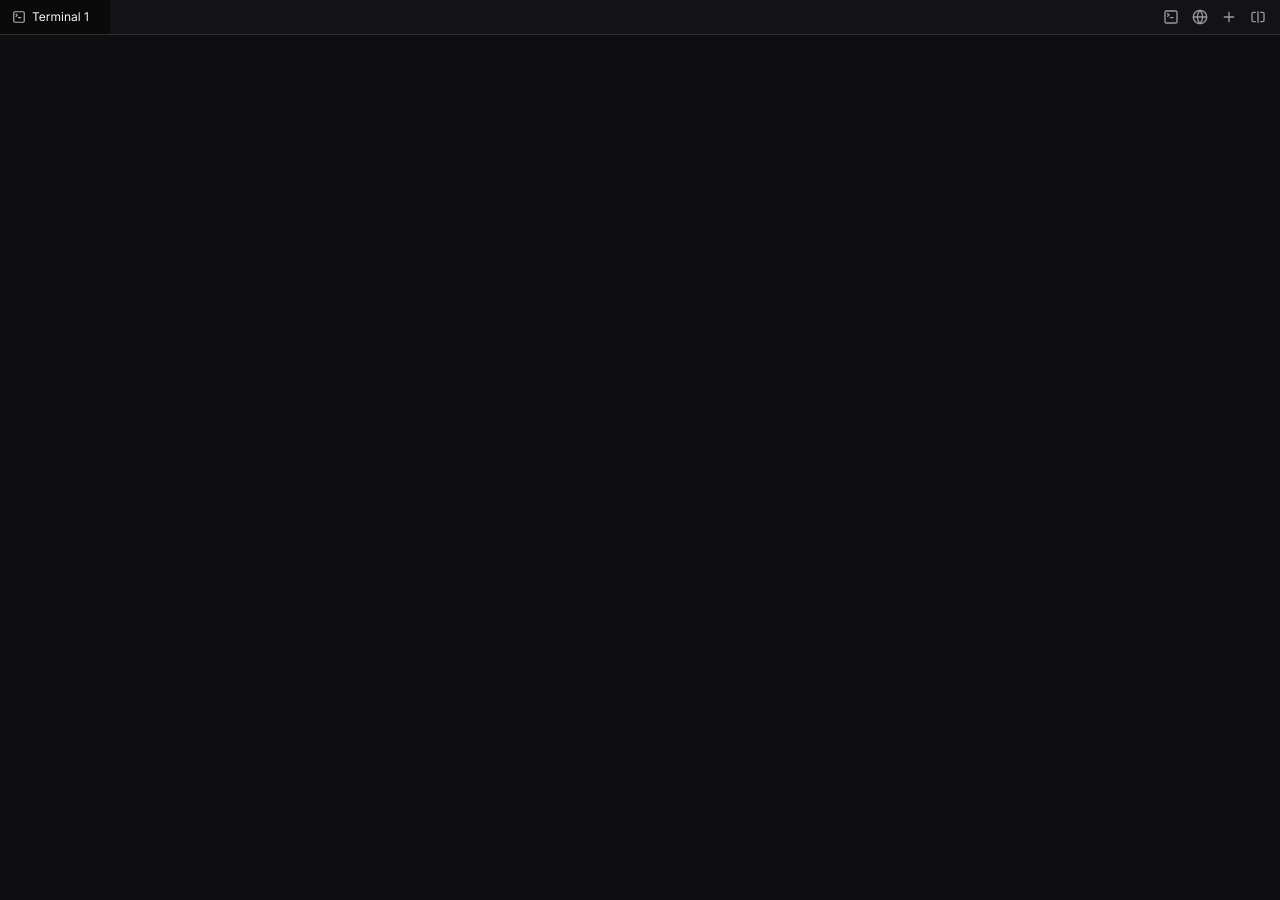
EditorTabs › closing the save-layout dialog clears the target
Right-click the button with test id "editor-tab-group-w1".
right_click(55, 17)  # box [0,0,110,34]
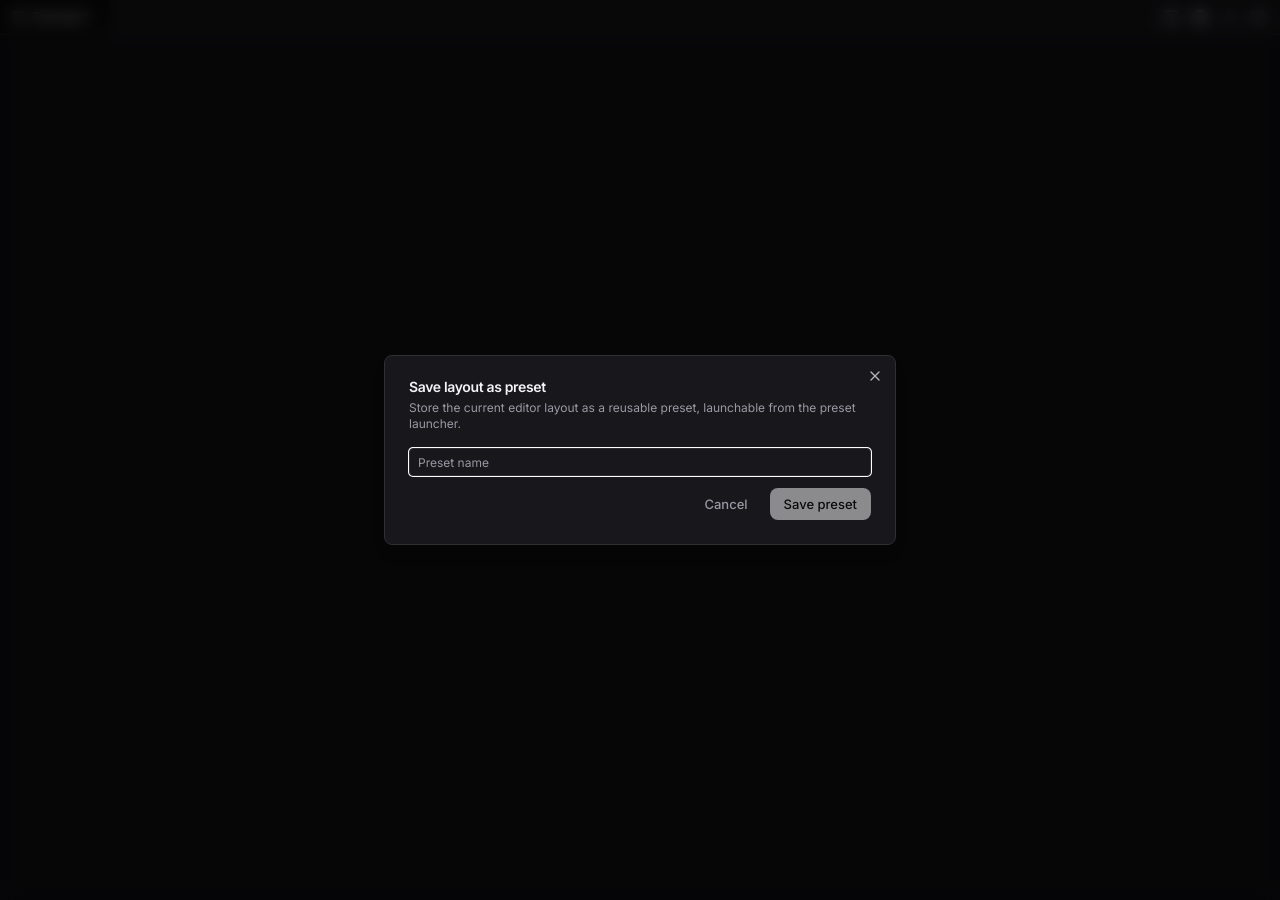
Result: the dialog with test id "save-layout-dialog" is shown at [384,355,896,545]
Click the button with test id "save-layout-cancel".
click(726, 504)  # box [690,488,762,520]
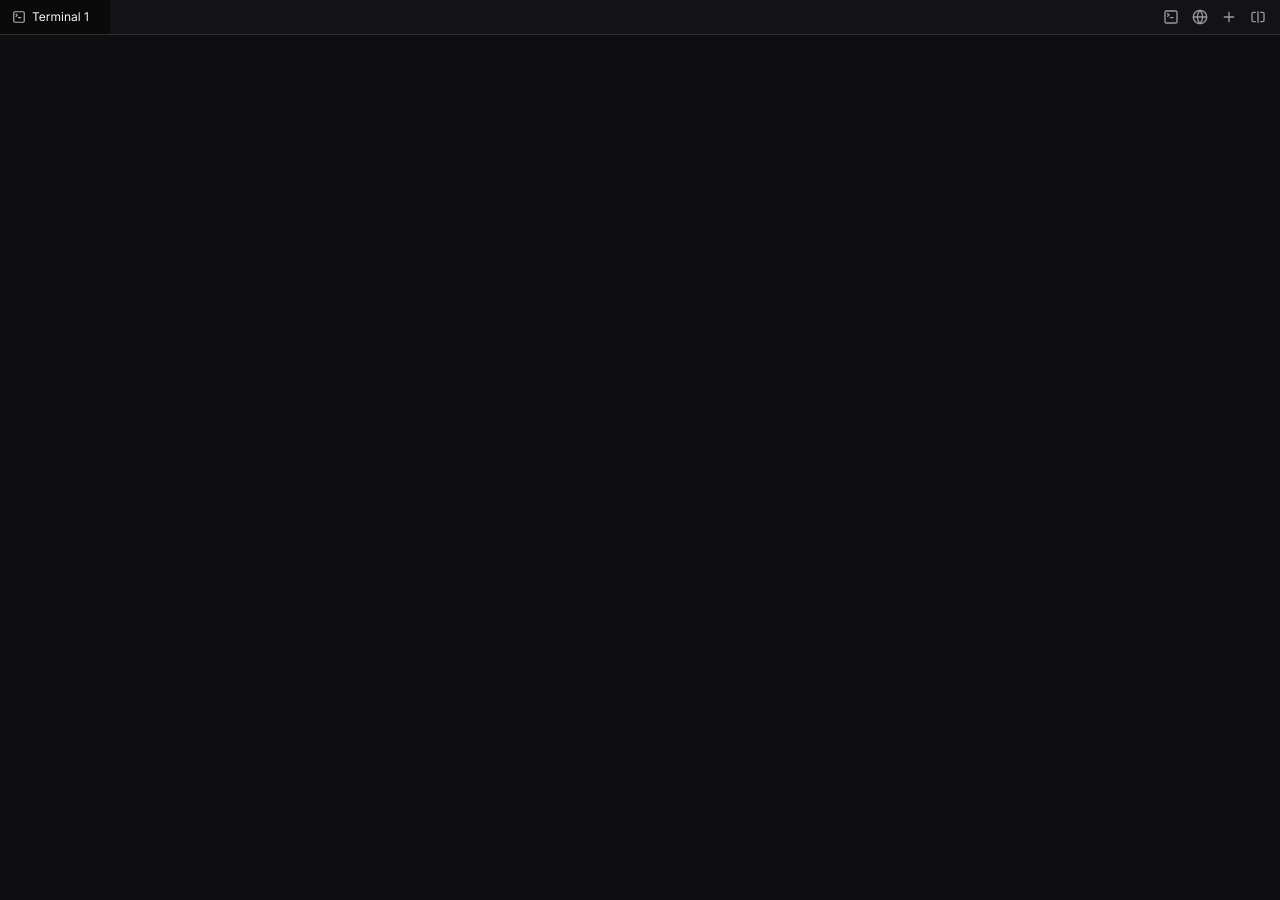
Result: the dialog with test id "save-layout-dialog" is gone
